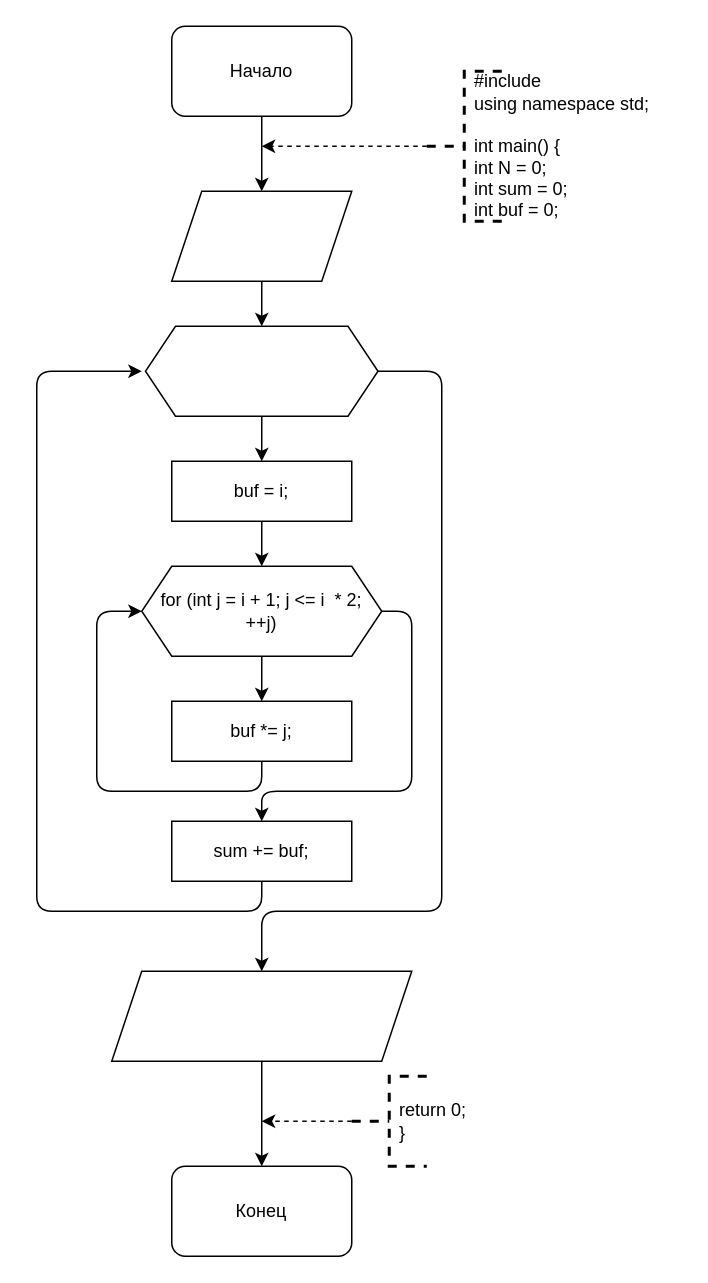
Some shapes in this 708 by 1283 pixel diagram are drawn without their labels. Each missing label, with the box of its shape:
cin >> N;: (170, 190, 352, 281)
cout << "Sum: " << sum << endl;: (110, 970, 412, 1061)
for (int i = 0; i < N; ++i): (144, 325, 378, 416)
